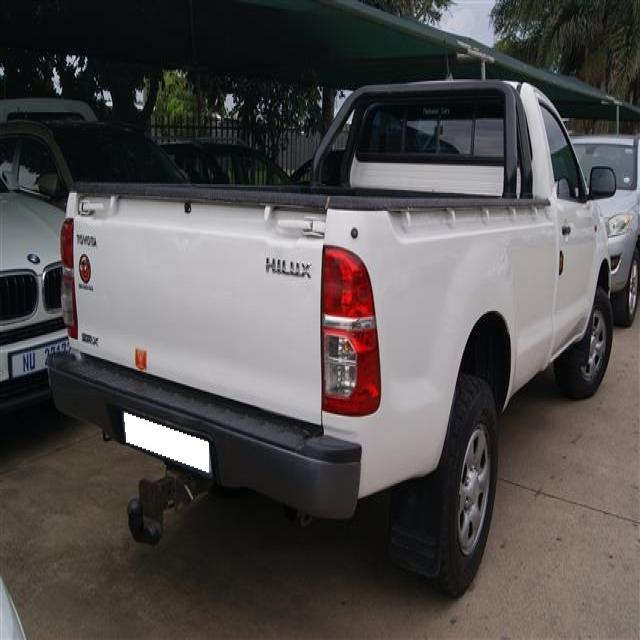dump_truck: (51, 19, 531, 410)
